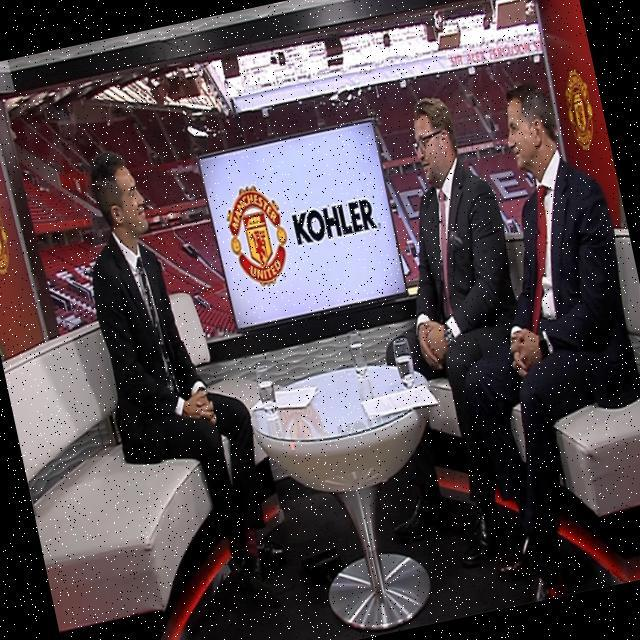Kohler: (291, 193, 381, 246)
